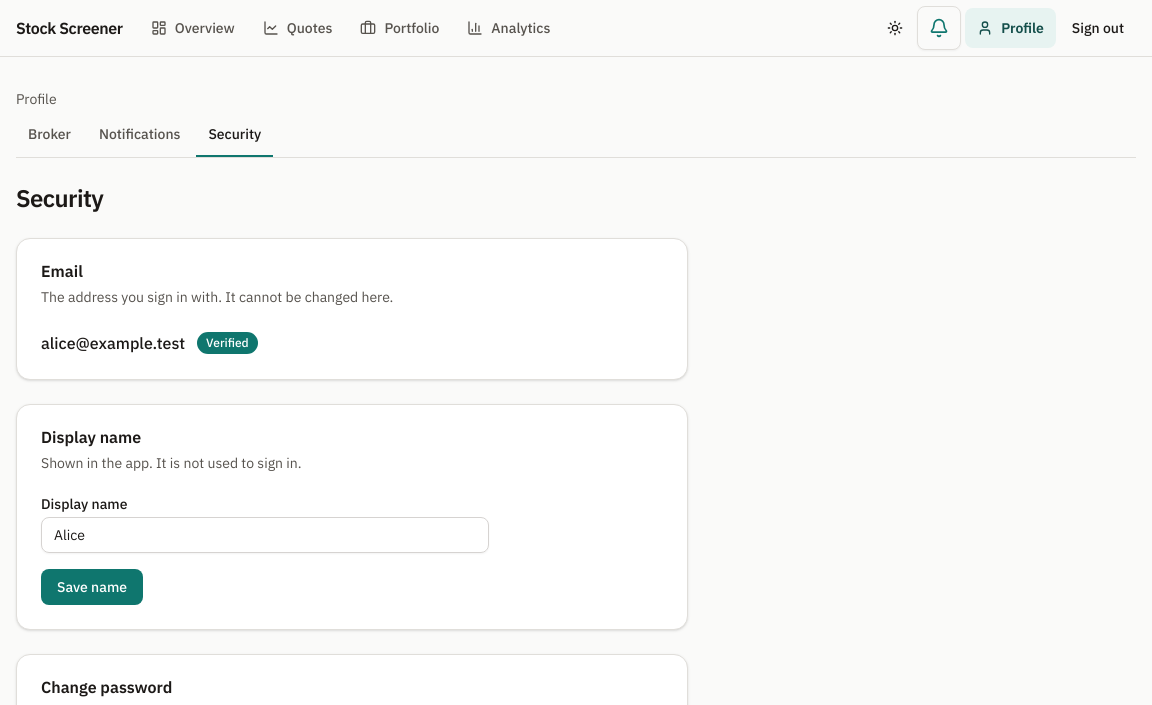
Test: Security: display name › loads, edits and saves the display name
The width and height of the screenshot is (1152, 705).
Replace the text in the field labelled "Display name" with "Alice B" at {"x": 265, "y": 535}, box [41,517,489,553]
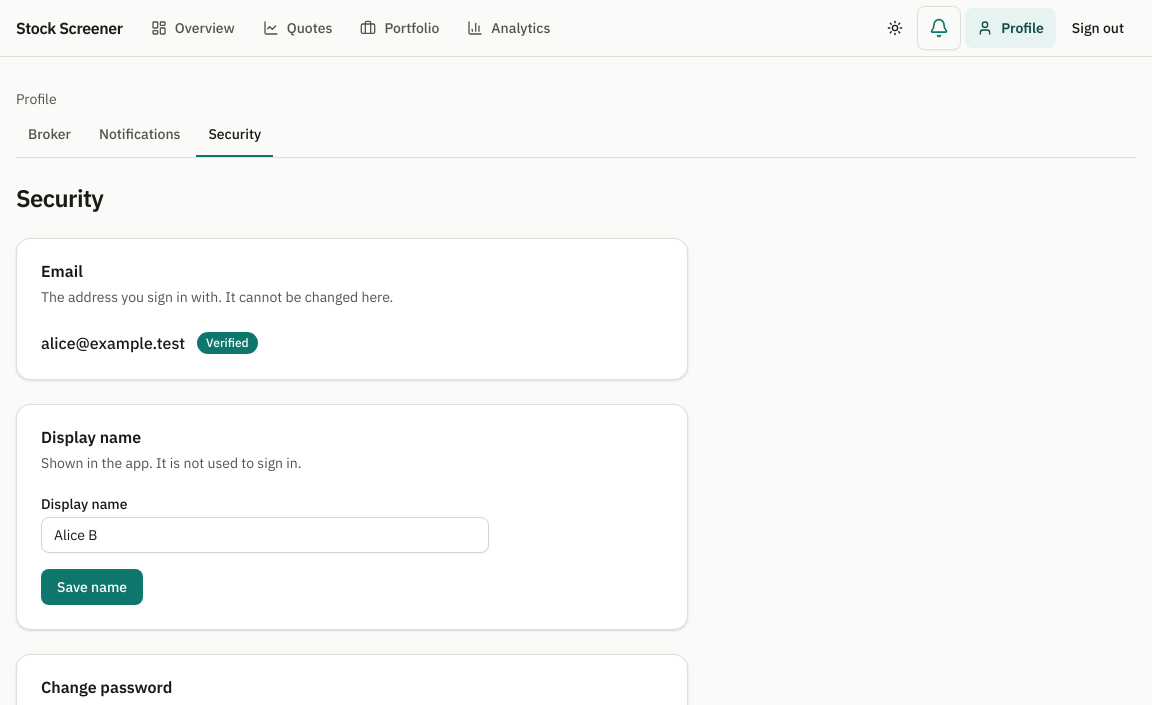
Submit the form "Save name", box [41,497,489,605]
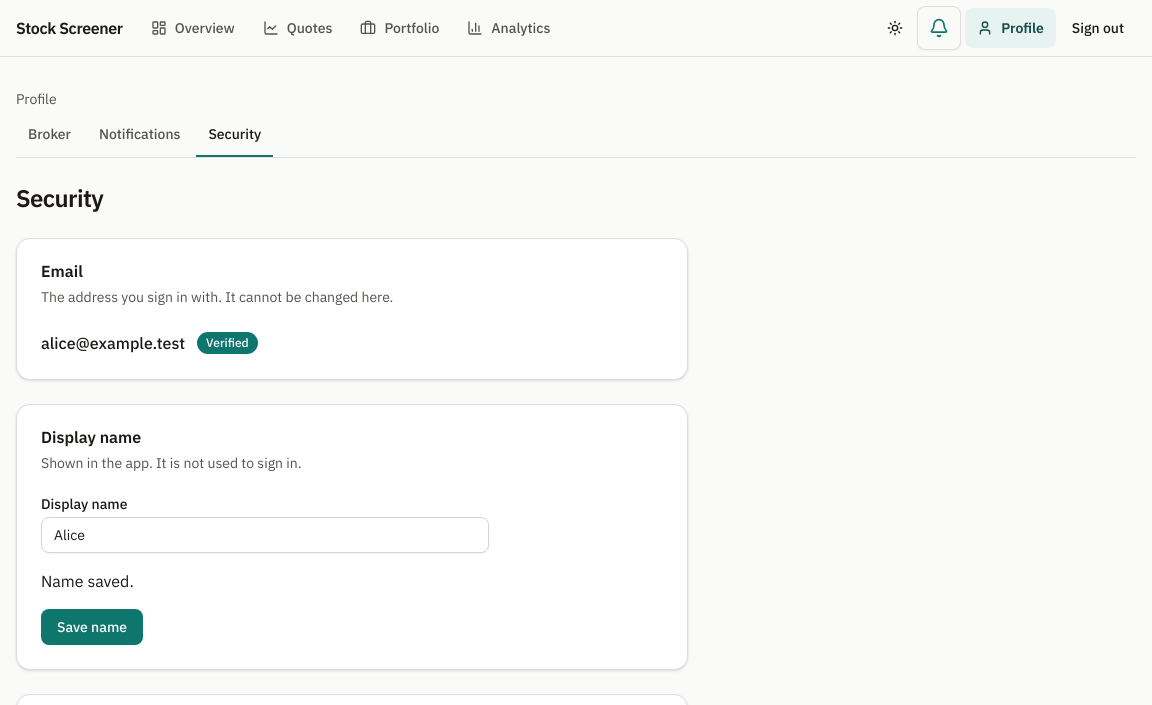
Expected: the text "Name saved." is shown, [41,571,134,591]
